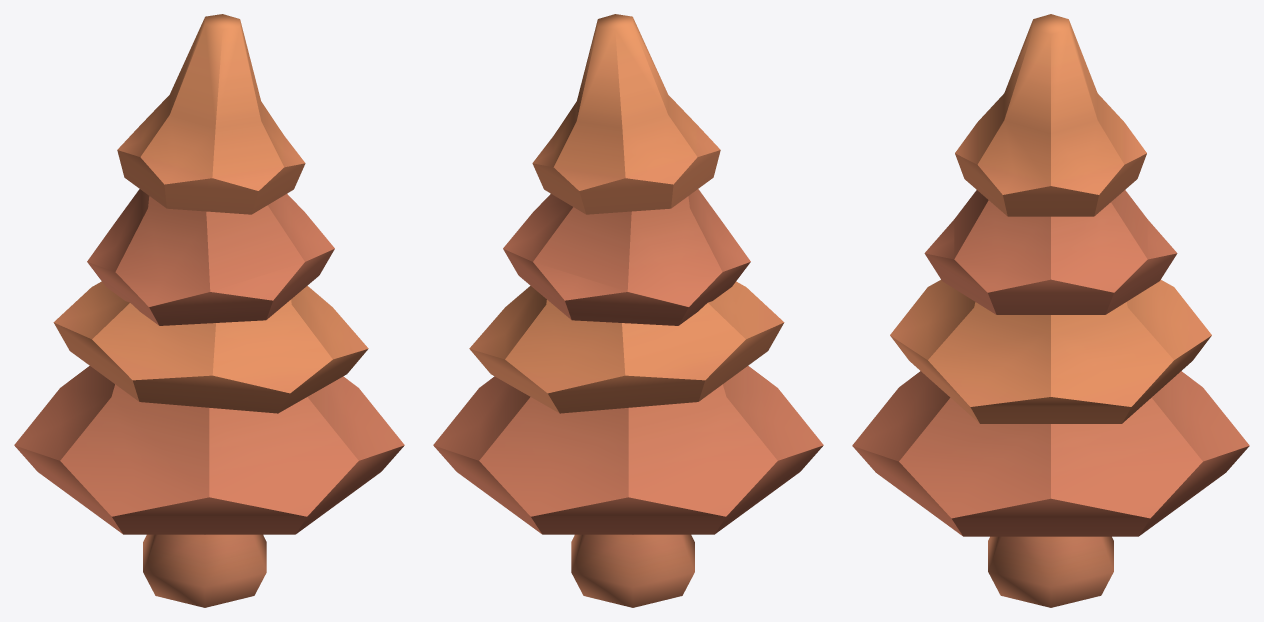
File: dead_b.glb
3 renders of one model, left to right at view 1: azimuth 30°, elevation 25°; view 2: azimuth 150°, elevation 25°; view 3: azimuth 270°, elevation 25°, orthographic.
Visible parts, largest first — view 1: pine-fall-crooked; view 2: pine-fall-crooked; view 3: pine-fall-crooked.
Boxes of the visible parts, x1,y1,x2,y2 form: pine-fall-crooked: (14, 14, 404, 607); pine-fall-crooked: (433, 14, 823, 607); pine-fall-crooked: (852, 14, 1249, 607).
Bounding box in the file's own units: 1.18 × 2.11 × 1.33.
1 material, 1 textured.
